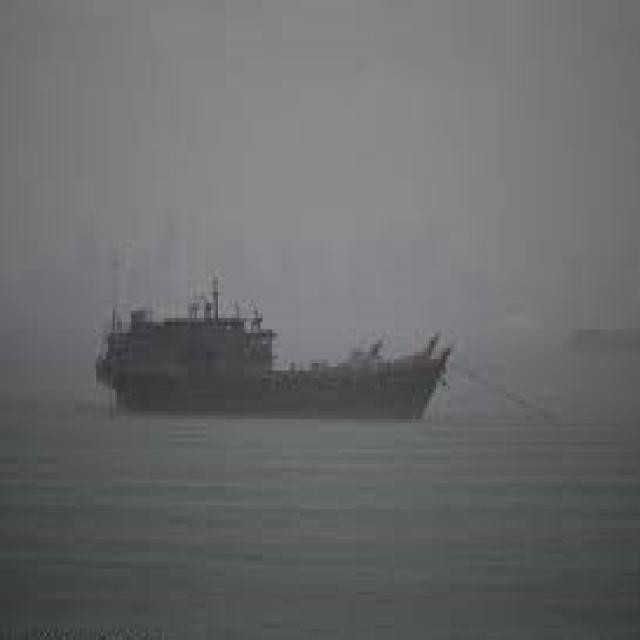fishing boat: (90, 277, 451, 432)
